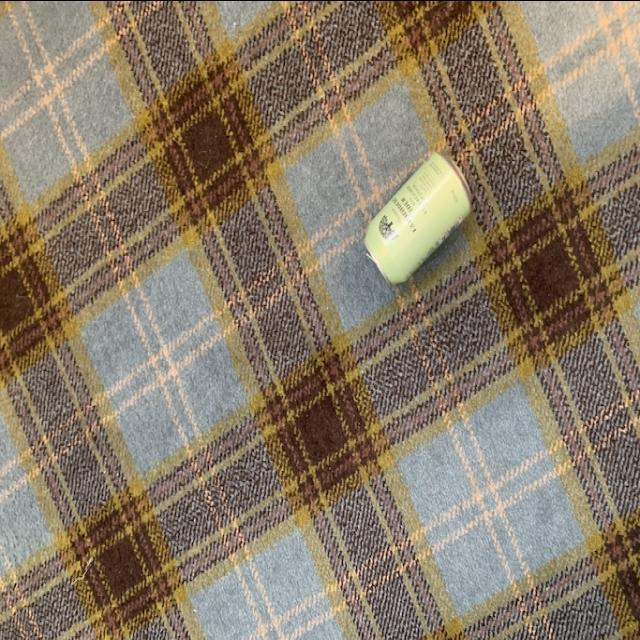Aluminum Can: (361, 141, 484, 290)
